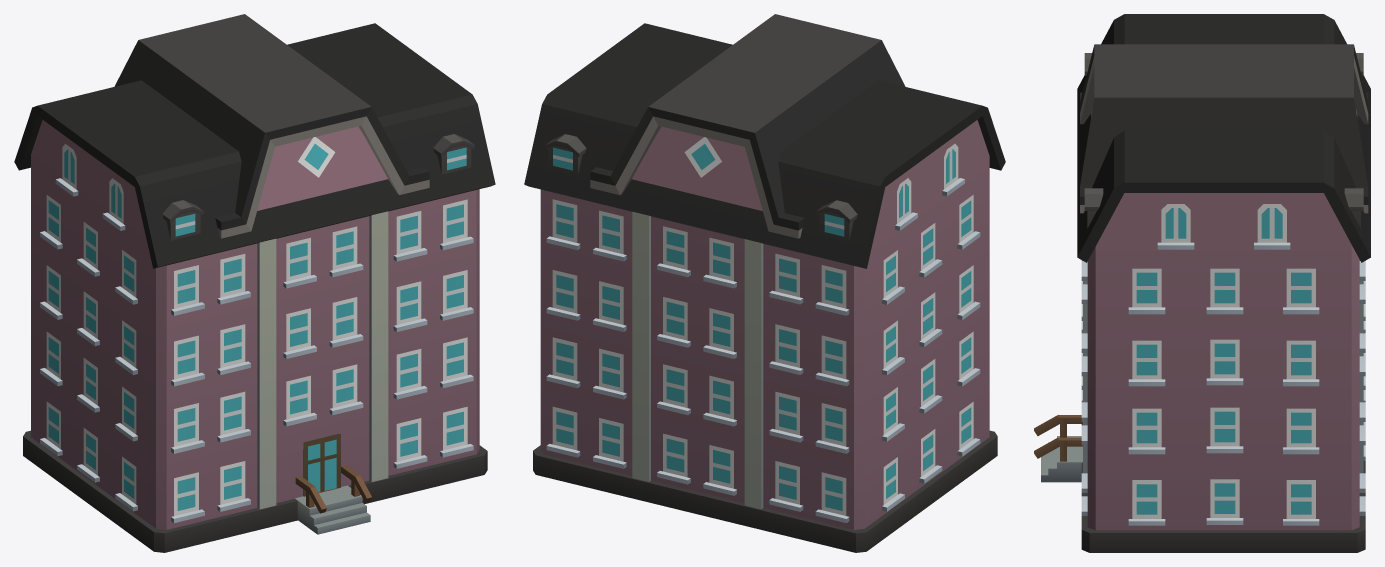
File: Building_cartoon_44.fbx
The picture shows the model from 3 angles, left to right: view 1: azimuth 30°, elevation 25°; view 2: azimuth 150°, elevation 25°; view 3: azimuth 270°, elevation 25°; orthographic projection. The views are drawn at different scales.
Parts seen in each view (by area): view 1: Building_cartoon_44; view 2: Building_cartoon_44; view 3: Building_cartoon_44.
Part boxes in pixels (bbox=[...]): Building_cartoon_44: bbox=[14, 14, 495, 552]; Building_cartoon_44: bbox=[524, 14, 1005, 552]; Building_cartoon_44: bbox=[1034, 14, 1370, 552].
Size of the model in its own units: 1684 by 1856 by 1421.
